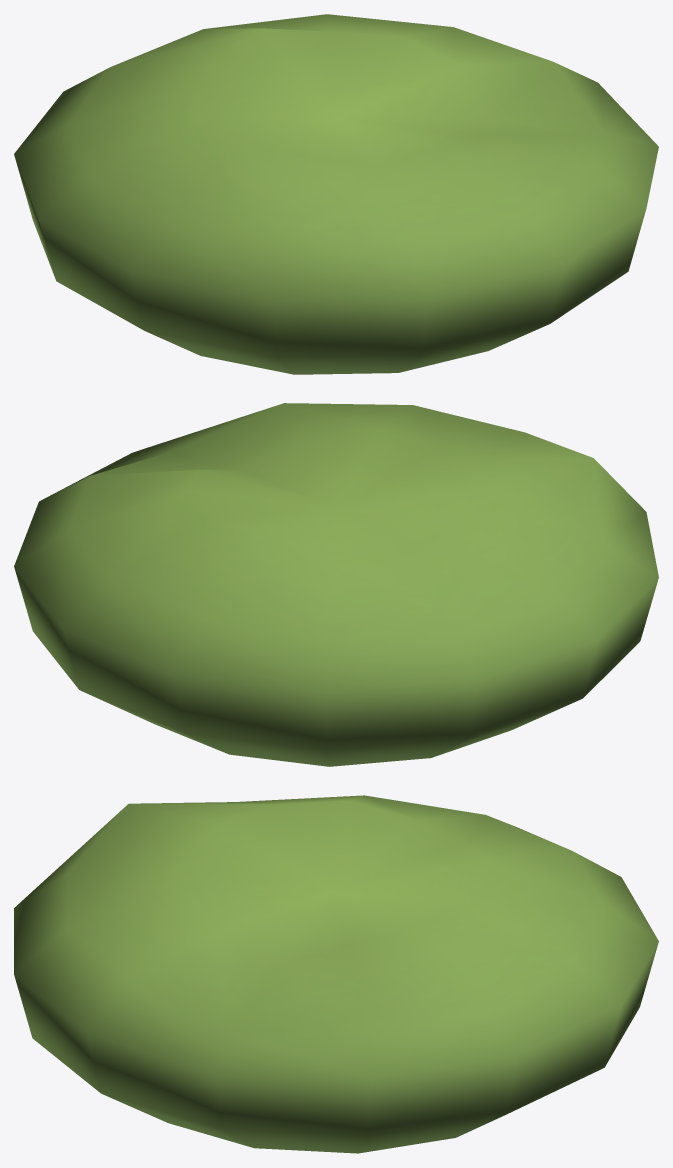
Rendered from M_cushion.FBX.
The picture shows the model from 3 angles, top to bottom: view 1: azimuth 30°, elevation 25°; view 2: azimuth 150°, elevation 25°; view 3: azimuth 270°, elevation 25°; orthographic projection.
Parts seen in each view (by area): view 1: Sphere017; view 2: Sphere017; view 3: Sphere017.
Part boxes in pixels (box(x1,y1,x2,y2)): Sphere017: box(14, 14, 658, 374); Sphere017: box(14, 403, 658, 766); Sphere017: box(14, 795, 658, 1153).
Size of the model in its own units: 94.32 by 93.63 by 33.05.
